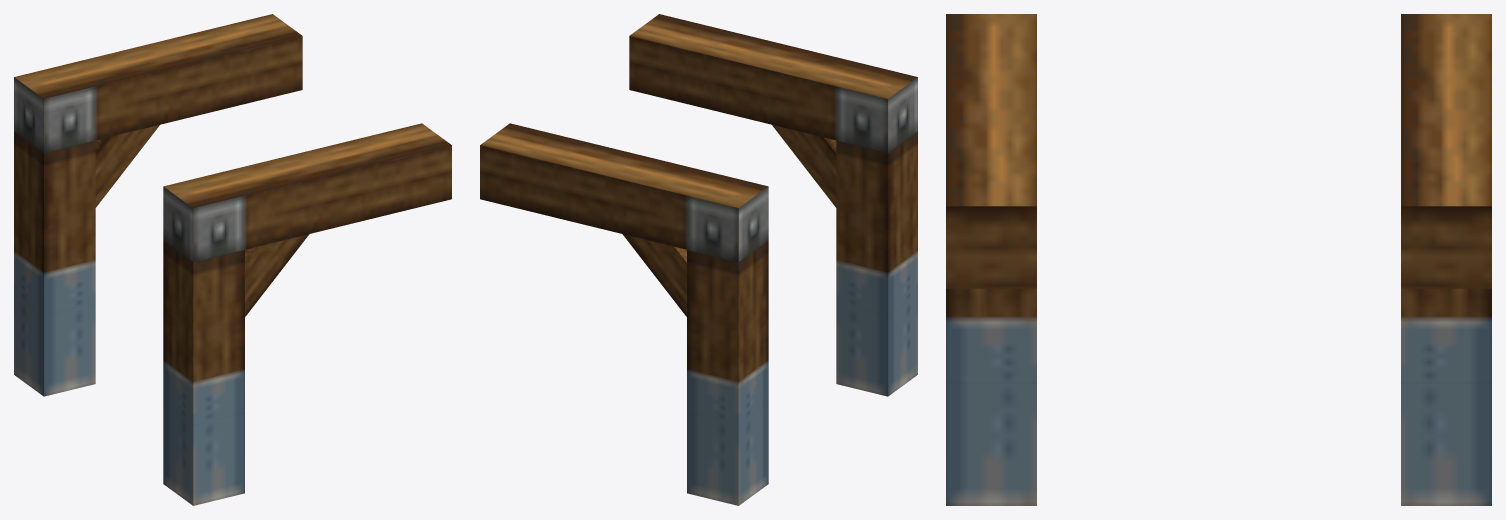
Rendered from Poly_Bridge_Spar_01_Right.obj.
3 views of the same model, side by side, from view 1: azimuth 30°, elevation 25°; view 2: azimuth 150°, elevation 25°; view 3: azimuth 270°, elevation 25° (orthographic). The views are drawn at different scales.
Parts seen in each view (by area): view 1: Cube, Cube.001; view 2: Cube, Cube.001; view 3: Cube.
Boxes of the visible parts, x1,y1,x2,y2 form: Cube: [14, 14, 451, 505]; Cube.001: [95, 125, 309, 316]; Cube: [480, 14, 917, 505]; Cube.001: [622, 125, 836, 316]; Cube: [946, 14, 1491, 505].
Bounding box in the file's own units: 1 × 1.1 × 1.2.
1 material, 1 textured.
